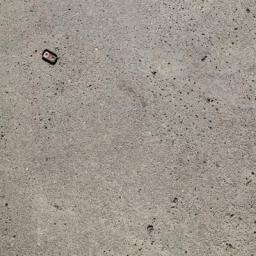FOD: (38, 48, 61, 66)
